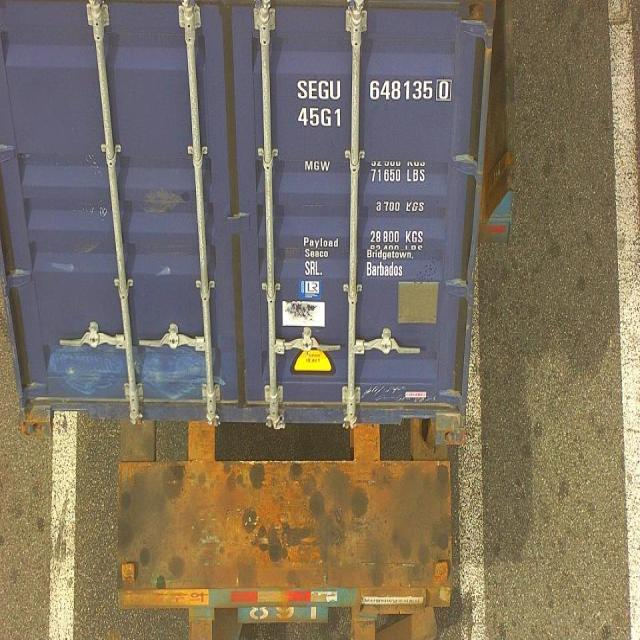ISO: (297, 105, 344, 128)
container_number: (299, 80, 454, 102)
